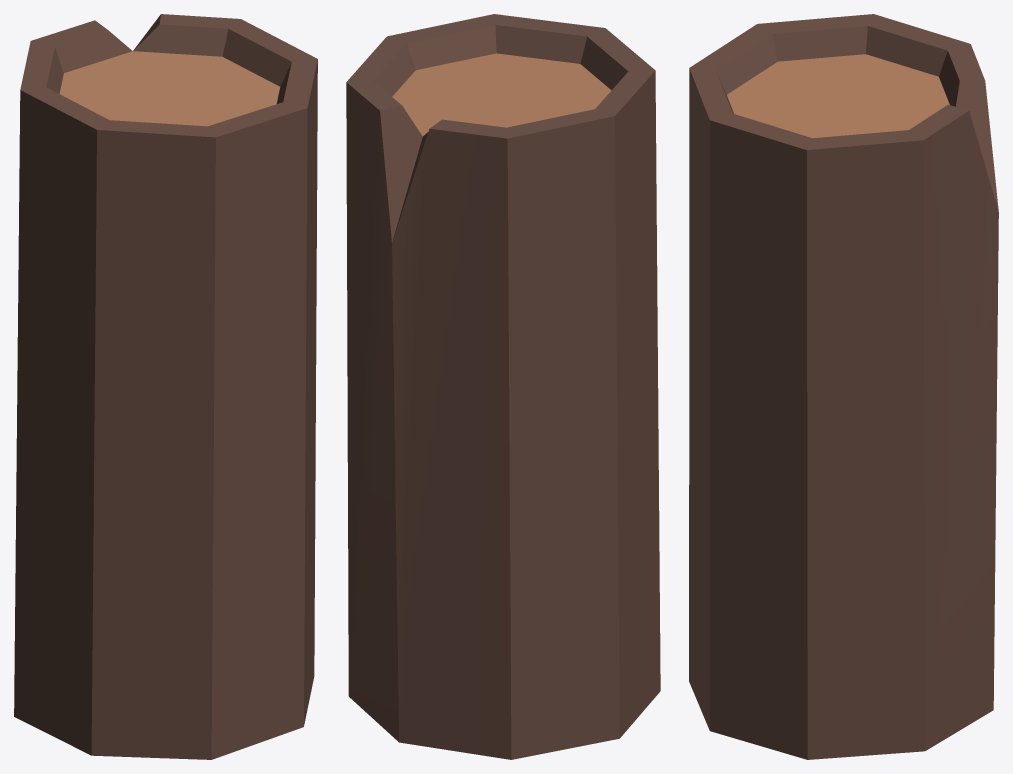
Rendered from wood.fbx.
3 views of the same model, side by side, from view 1: azimuth 30°, elevation 25°; view 2: azimuth 150°, elevation 25°; view 3: azimuth 270°, elevation 25° (orthographic).
Parts seen in each view (by area): view 1: CutTree; view 2: CutTree; view 3: CutTree.
Part boxes in pixels (box(x1,y1,x2,y2)): CutTree: box(14, 14, 317, 759); CutTree: box(346, 14, 660, 759); CutTree: box(689, 14, 998, 759).
Bounding box in the file's own units: 22.18 × 49.26 × 22.29.
